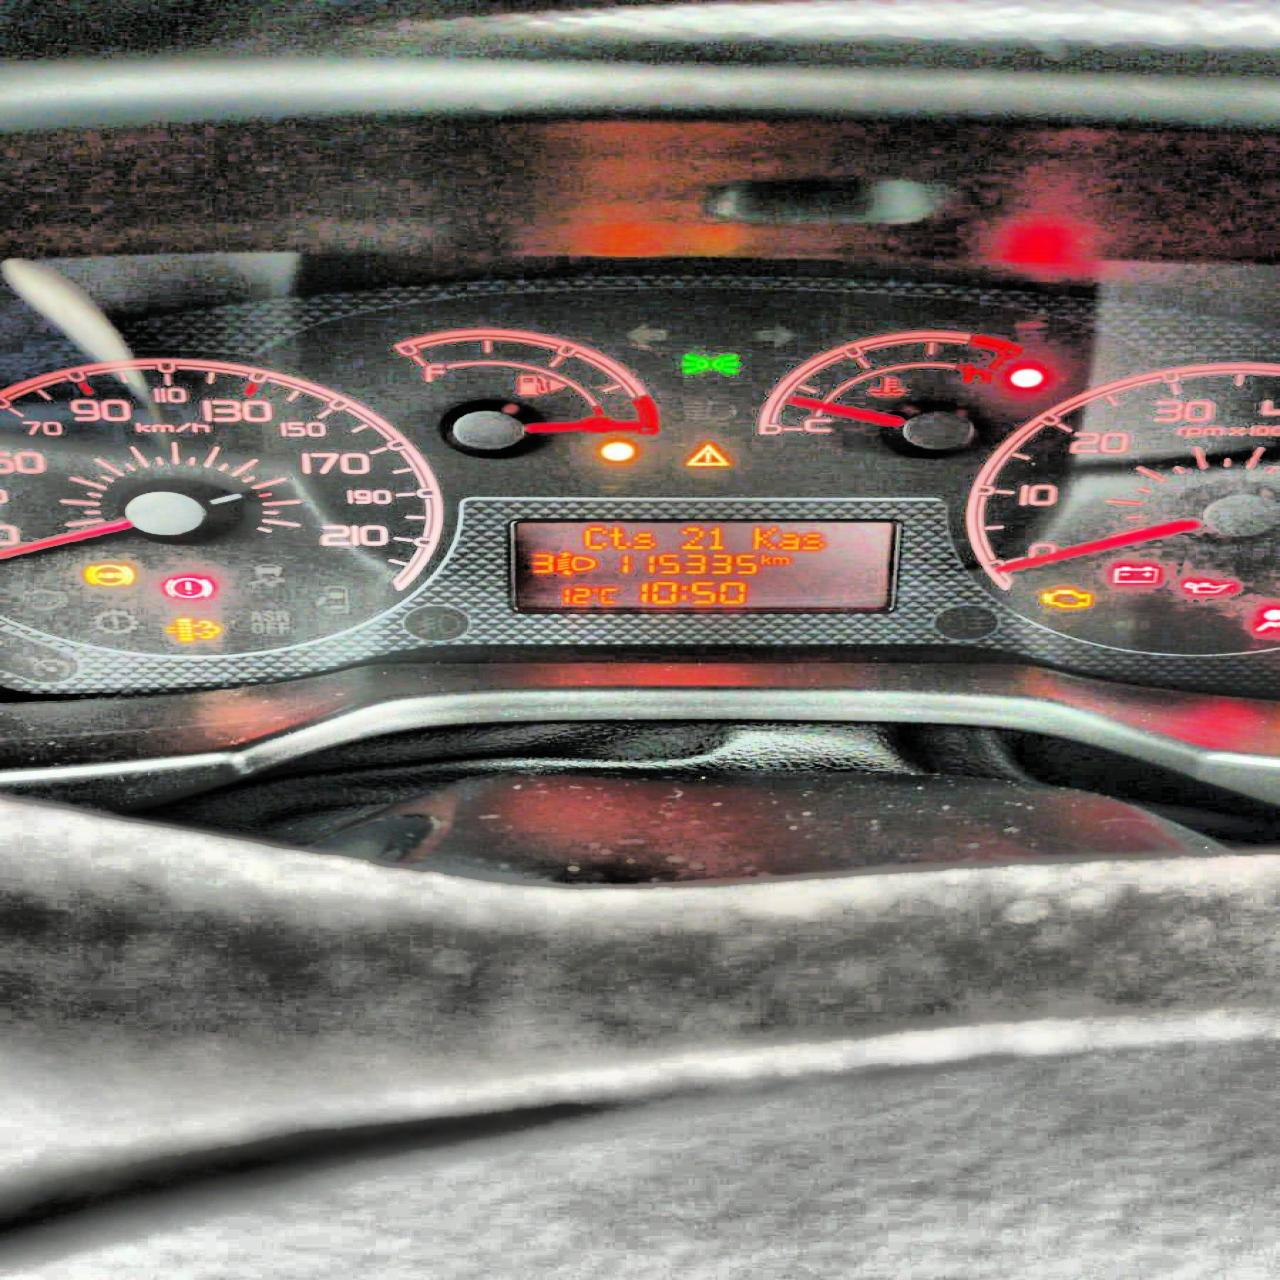0: (649, 580, 676, 604), (719, 580, 745, 604)
1: (708, 526, 723, 550), (638, 581, 648, 602), (645, 554, 656, 573), (620, 554, 629, 573), (561, 587, 570, 602)
2: (680, 526, 703, 549), (571, 586, 590, 604)
3: (682, 553, 706, 574), (708, 553, 731, 574), (531, 553, 554, 573)
5: (689, 580, 716, 605), (656, 553, 680, 574), (734, 553, 757, 574)
X: (553, 551, 597, 576), (583, 525, 607, 550), (751, 526, 777, 550), (608, 526, 631, 549), (798, 532, 824, 551), (631, 532, 655, 550), (777, 532, 801, 550), (598, 586, 617, 604), (770, 557, 790, 565), (678, 585, 688, 600), (758, 553, 770, 564)
odometer: (505, 517, 900, 613)
